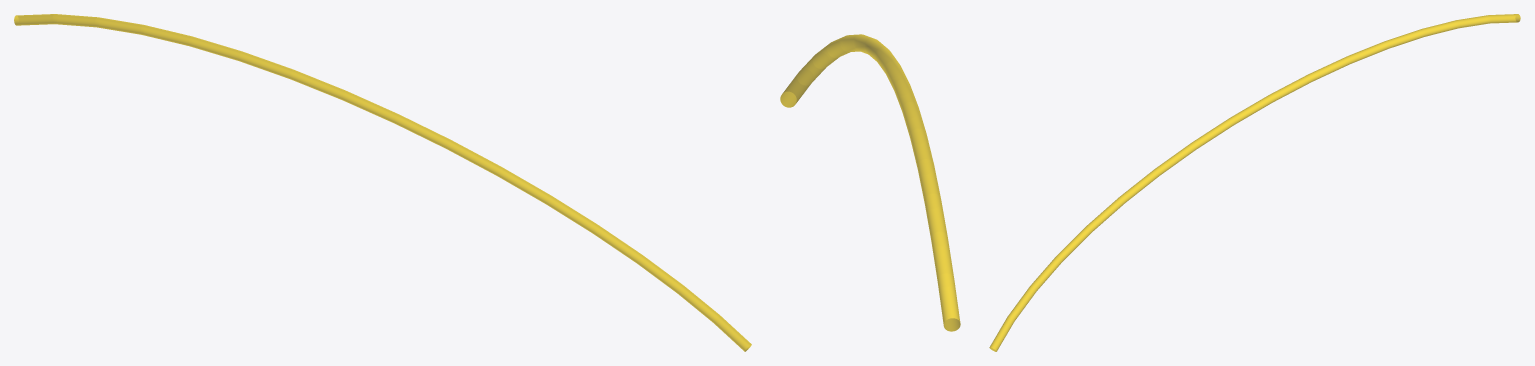
The model's file is Event_17758602_track_32.fbx.
3 views of the same model, side by side, from view 1: azimuth 30°, elevation 25°; view 2: azimuth 150°, elevation 25°; view 3: azimuth 270°, elevation 25° (orthographic). The views are drawn at different scales.
Visible parts, largest first — view 1: Model; view 2: Model; view 3: Model.
Part boxes in pixels (bbox=[...]): Model: bbox=[14, 14, 751, 351]; Model: bbox=[780, 34, 960, 331]; Model: bbox=[989, 14, 1520, 351].
Size of the model in its own units: 1.9 by 0.9487 by 2.49.
